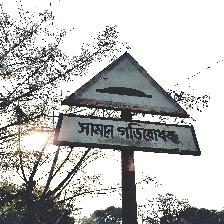Speed-breaker: (55, 51, 198, 155)
